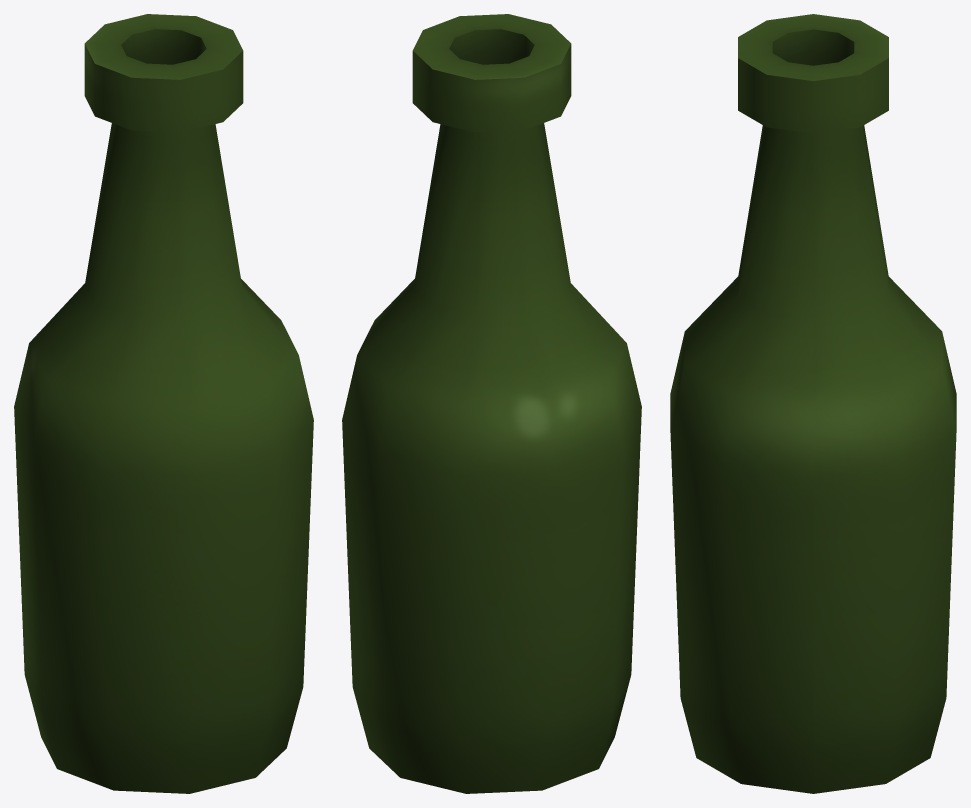
File: bottleB.fbx
The picture shows the model from 3 angles, left to right: view 1: azimuth 30°, elevation 25°; view 2: azimuth 150°, elevation 25°; view 3: azimuth 270°, elevation 25°; orthographic projection.
Parts seen in each view (by area): view 1: bottleB_; view 2: bottleB_; view 3: bottleB_.
Boxes of the visible parts, bbox=[...] form: bottleB_: bbox=[14, 14, 313, 793]; bottleB_: bbox=[342, 14, 641, 793]; bottleB_: bbox=[670, 14, 956, 793].
Bounding box in the file's own units: 15.19 × 38.7 × 14.45.
